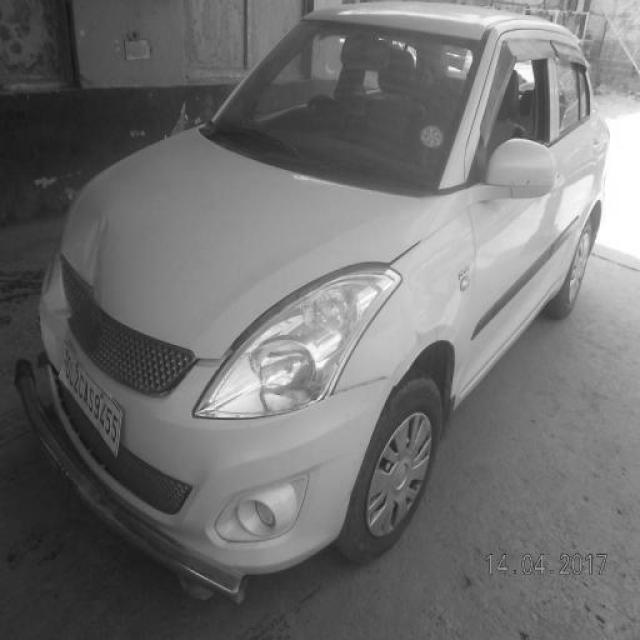dent: (407, 255, 463, 343), (62, 219, 108, 291), (38, 263, 71, 350)
scratch: (320, 363, 404, 409)
